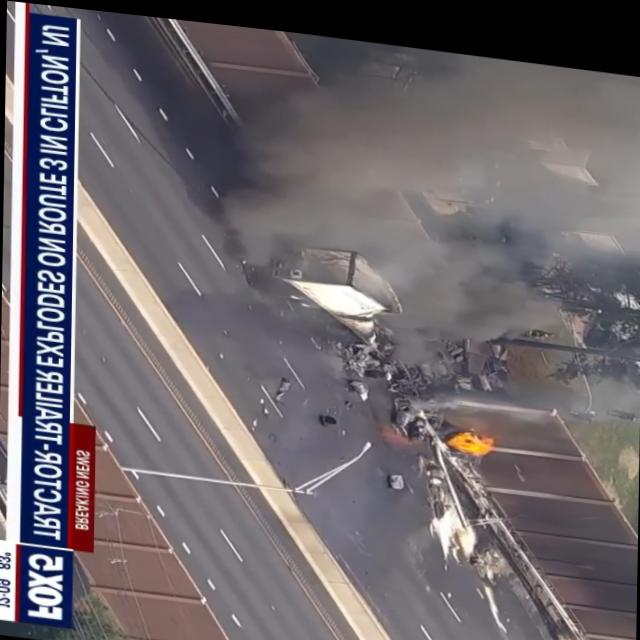Fire: (442, 416, 497, 448)
